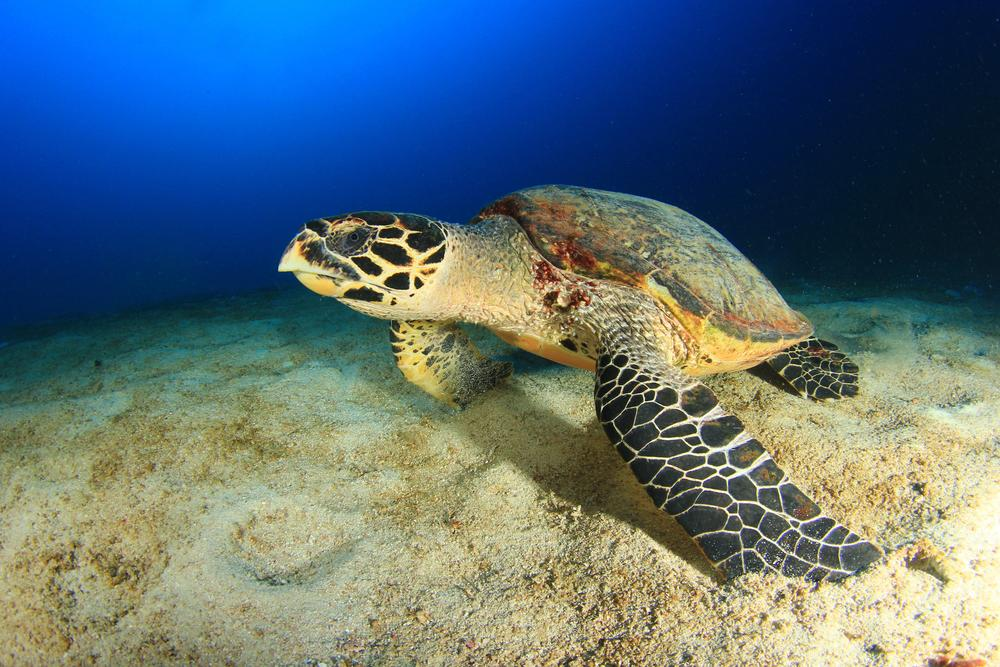turtle: (264, 199, 466, 332)
